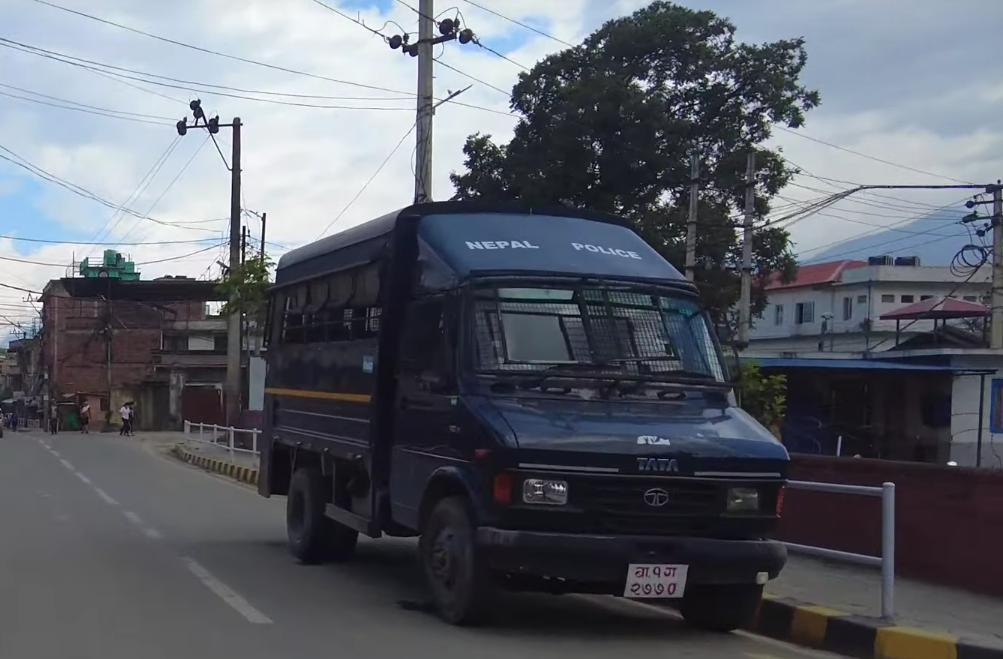mini_truck: (277, 193, 797, 645)
